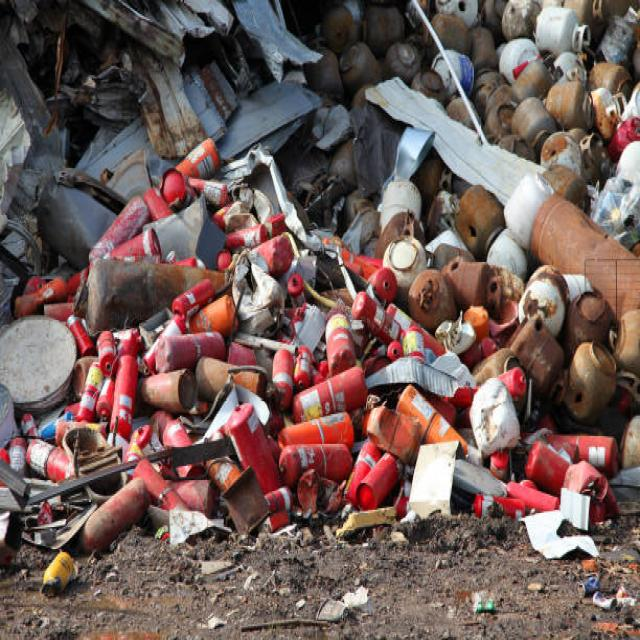Cylinder: (225, 399, 283, 497), (292, 367, 368, 425), (144, 331, 225, 375), (277, 442, 355, 485), (352, 288, 403, 347)
